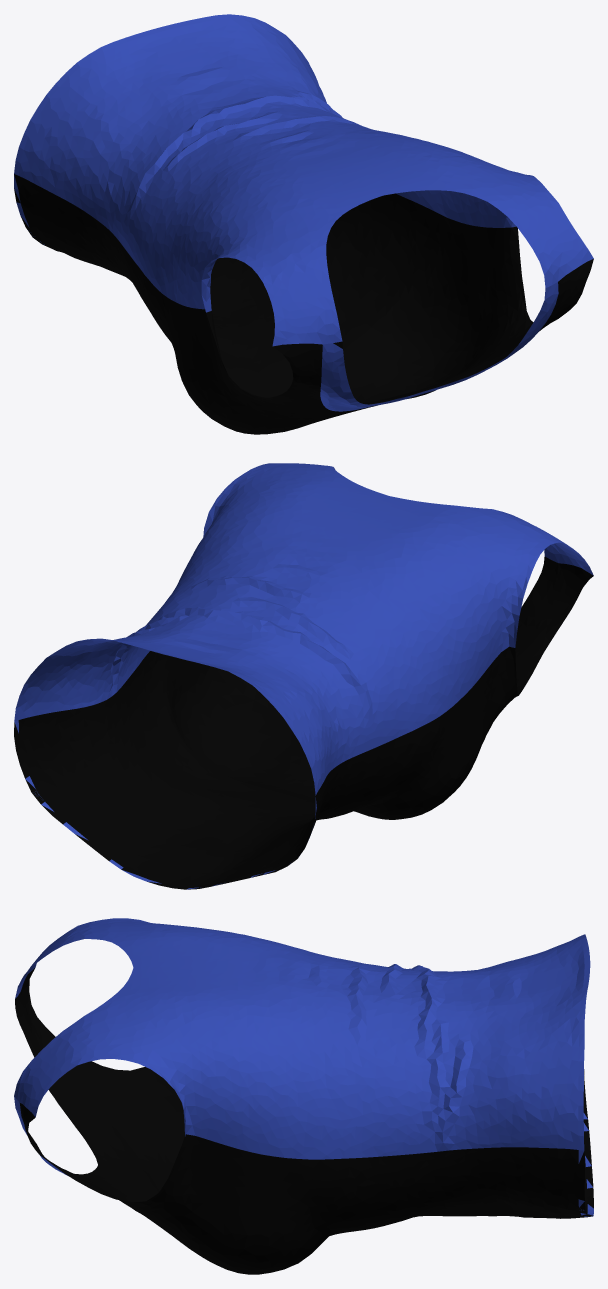
3 renders of one model, top to bottom at view 1: azimuth 30°, elevation 25°; view 2: azimuth 150°, elevation 25°; view 3: azimuth 270°, elevation 25°, orthographic. The views are drawn at different scales.
Visible parts, largest first — view 1: Cloth2; view 2: Cloth2; view 3: Cloth2.
Boxes of the visible parts, left/top/right/bottom form: Cloth2: left=14, top=14, right=593, bottom=434; Cloth2: left=14, top=463, right=593, bottom=889; Cloth2: left=14, top=918, right=593, bottom=1274.
Size of the model in its own units: 1.21 by 0.9473 by 1.85.
Materials: 2 (2 with a texture image).
